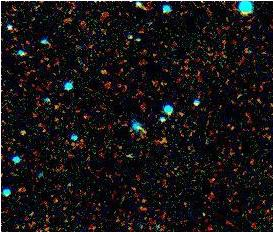star: (5, 116, 35, 146)
